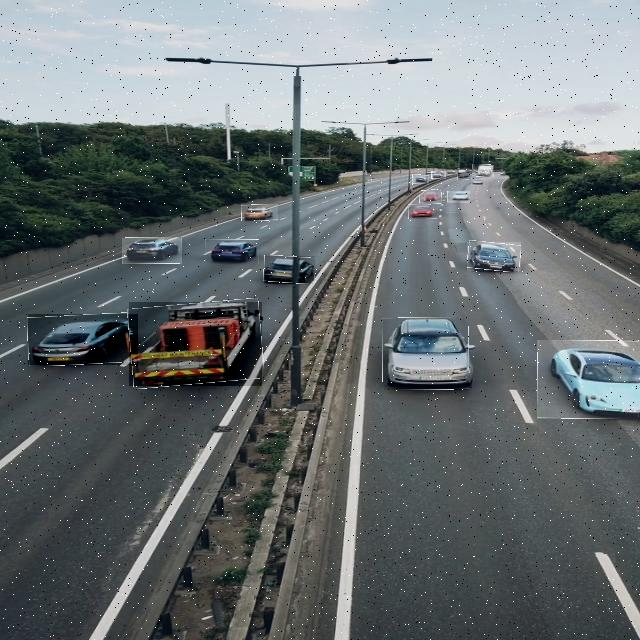Car: (537, 340, 640, 419), (383, 318, 469, 390), (28, 314, 138, 365), (467, 242, 521, 271), (122, 238, 182, 264), (264, 256, 315, 284), (205, 239, 259, 264), (241, 204, 278, 221), (408, 204, 437, 219), (419, 190, 442, 204), (447, 192, 470, 204), (412, 175, 429, 184), (431, 171, 446, 179), (471, 178, 485, 186), (457, 172, 470, 180)
Truck: (129, 302, 262, 386), (472, 165, 494, 177)
